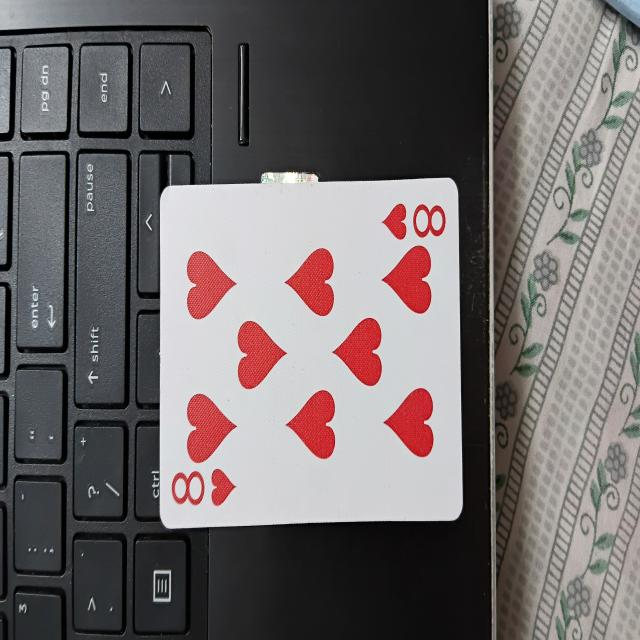8H: (163, 185, 464, 524)
